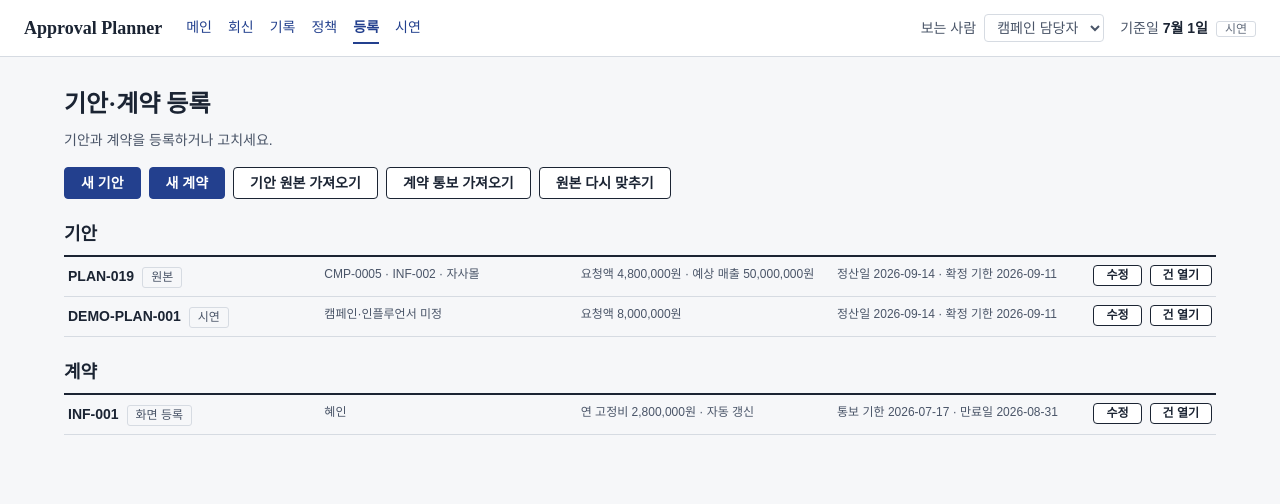
Test: 기안·계약 등록 › 건_열기
Click the button "건 열기" in the row of "PLAN-019" at (1181, 275), box [1150,265,1212,286]
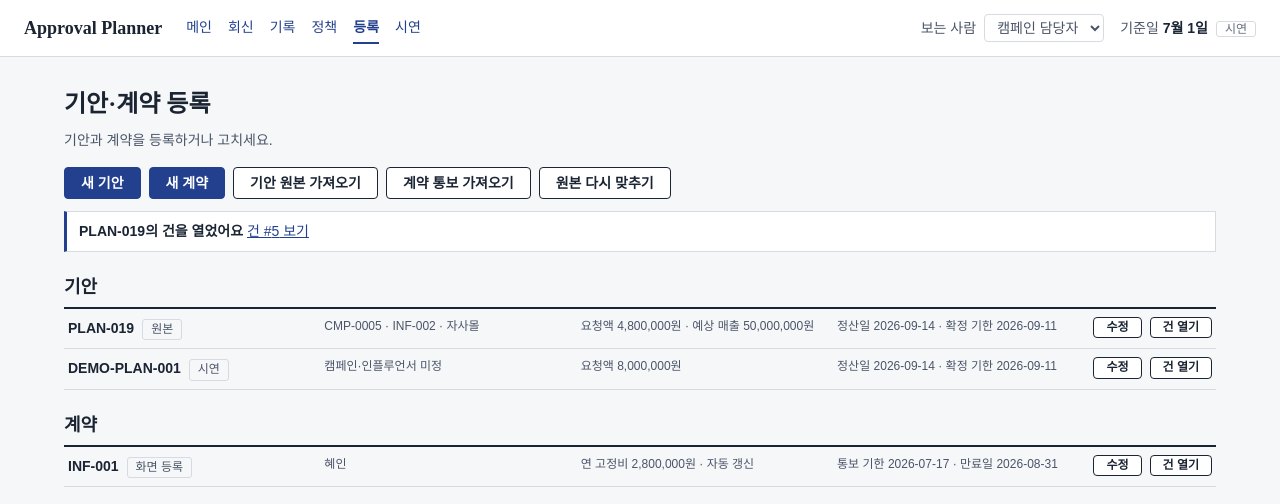
Click the button "건 열기" in the row of "INF-001" at (1181, 466), box [1150,455,1212,476]
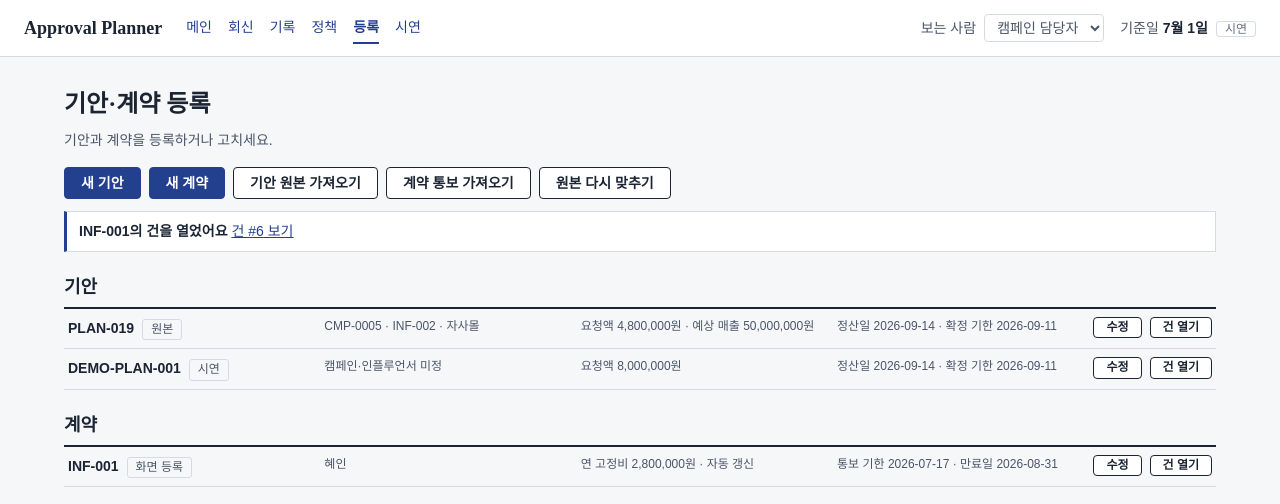
Expected: the link "건 #6 보기" is shown, [231,223,293,239]
